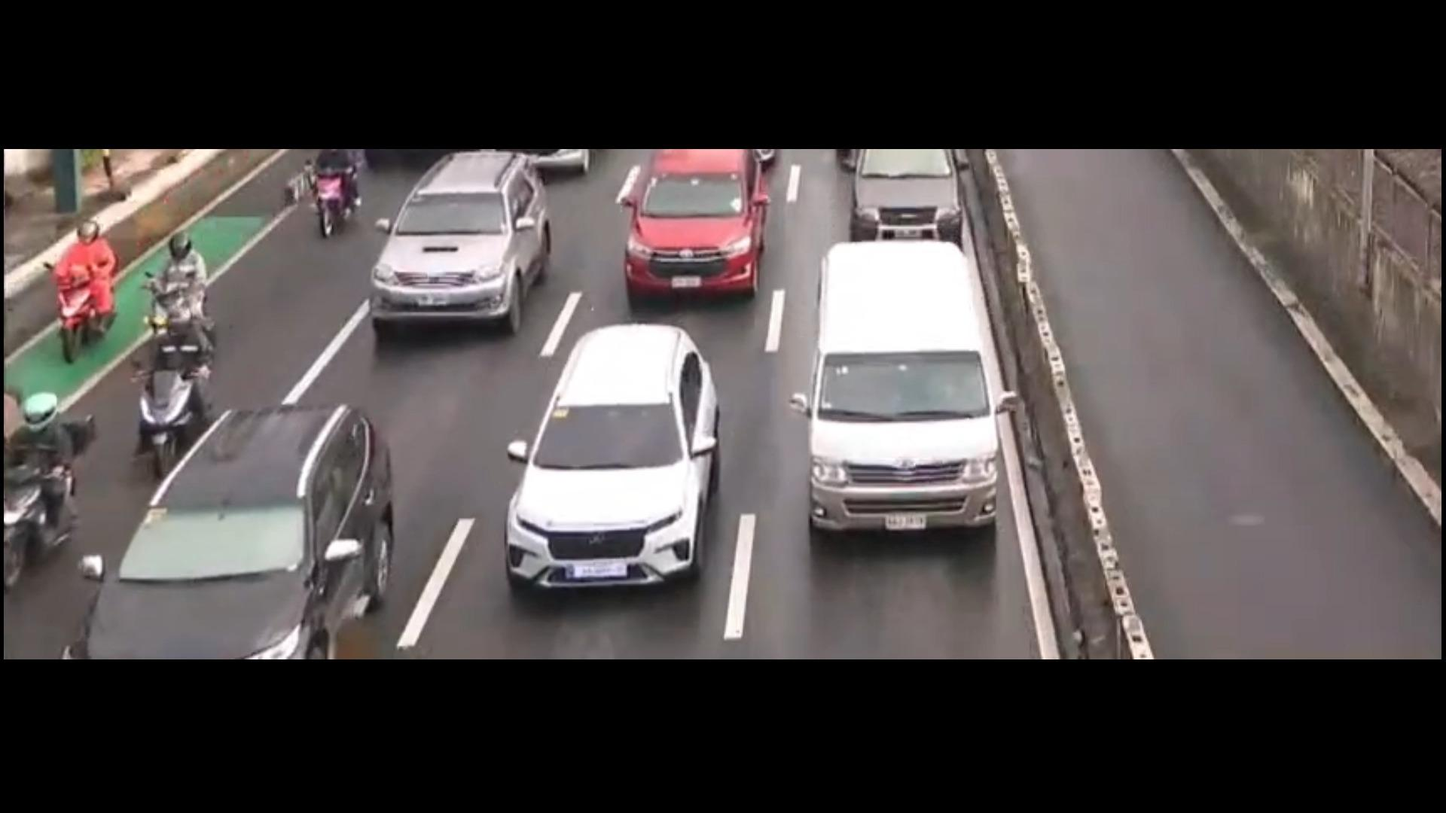Motorcycle: (0, 392, 96, 584), (131, 221, 238, 372), (36, 207, 127, 378), (129, 343, 219, 477), (292, 142, 377, 235)
SUV: (49, 392, 416, 664), (492, 296, 727, 616), (372, 143, 545, 346), (582, 149, 778, 297)
Van: (759, 234, 1038, 560)
